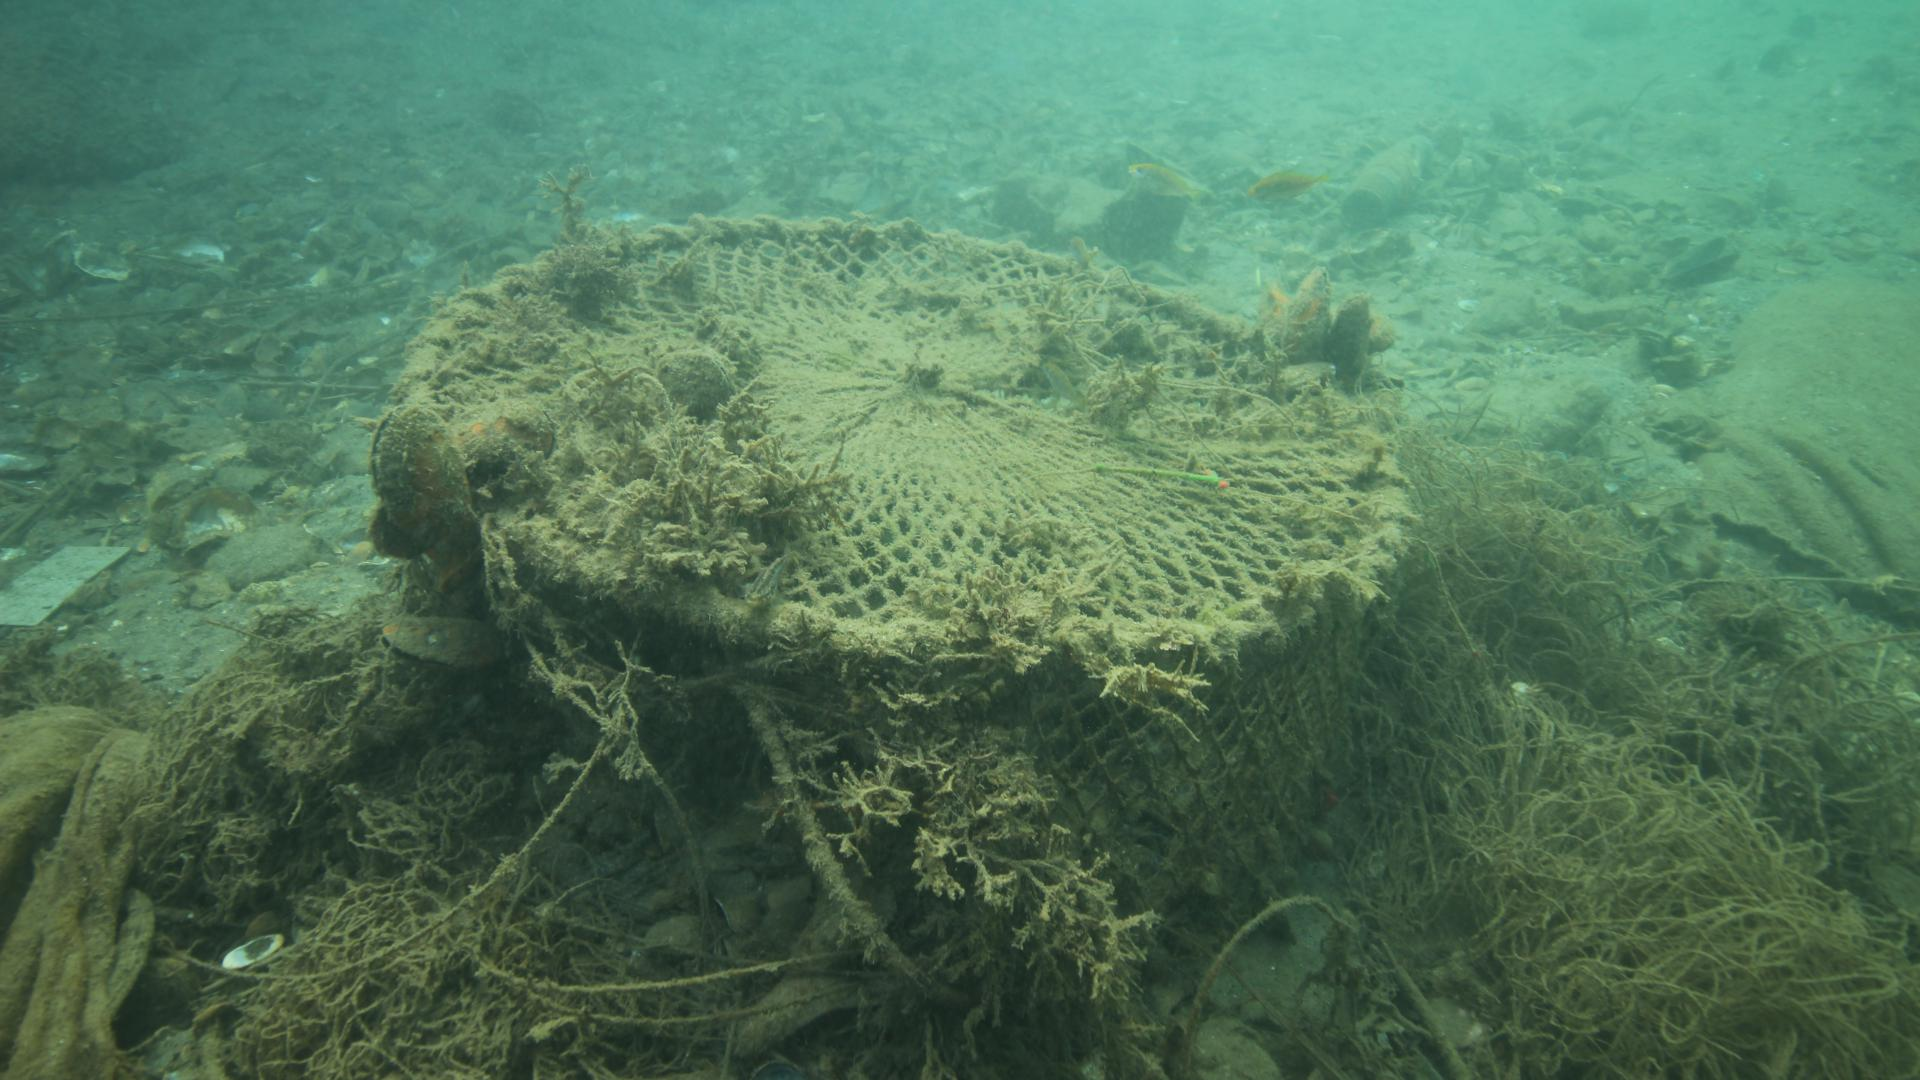circular fish trap: (396, 212, 1422, 936)
